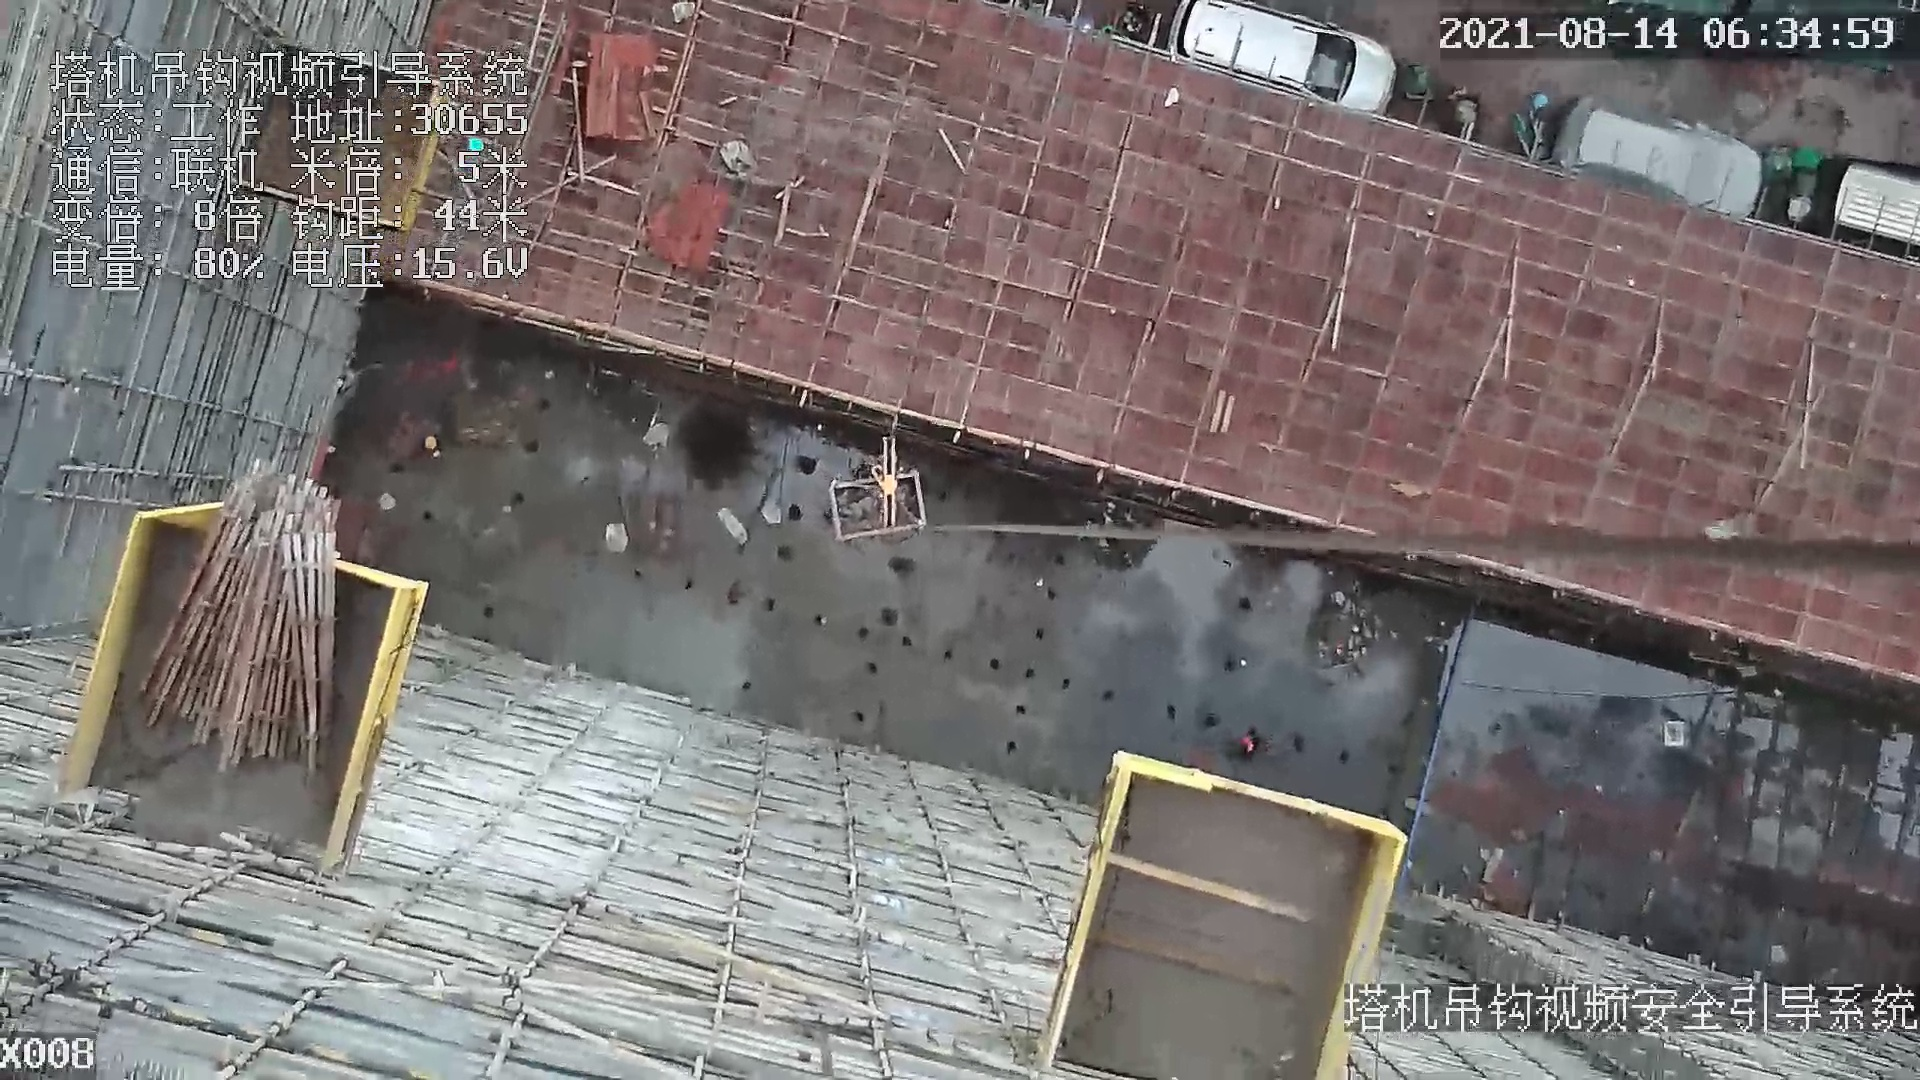hook: (866, 430, 899, 527)
hopper: (825, 468, 938, 553)
scaffold: (175, 460, 355, 789)
